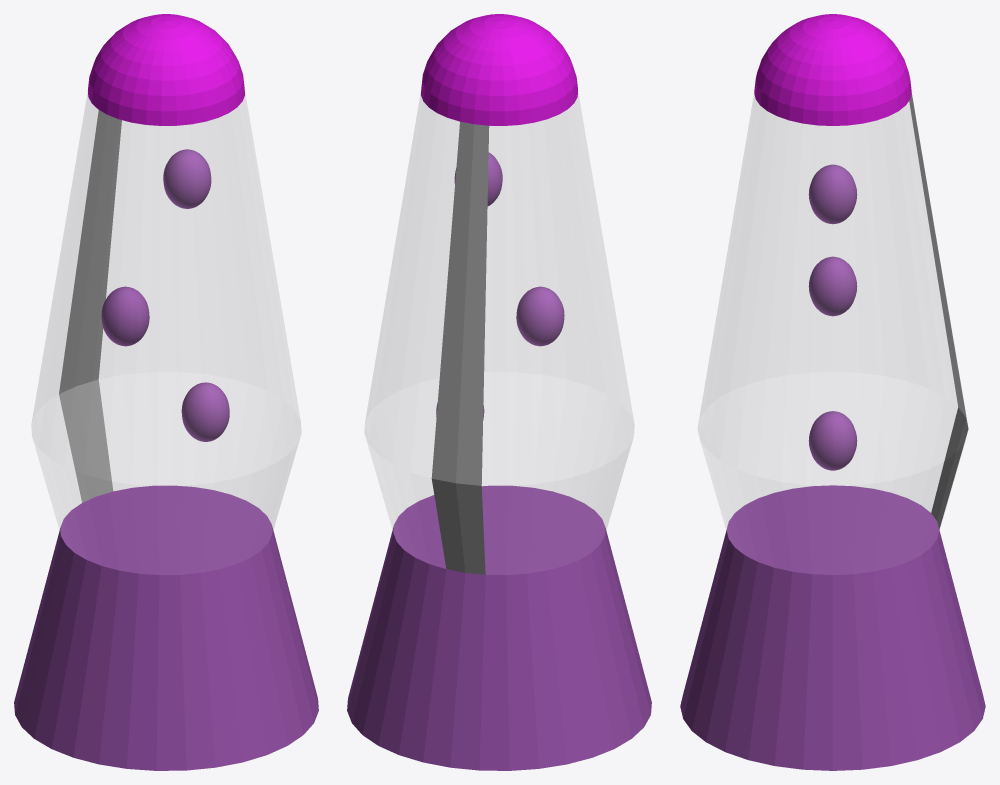
Rendered from Lava lamp.fbx.
3 views of the same model, side by side, from view 1: azimuth 30°, elevation 25°; view 2: azimuth 150°, elevation 25°; view 3: azimuth 270°, elevation 25° (orthographic).
Visible parts, largest first — view 1: Cylinder, Sphere, pSphere1, pasted__pSphere1, pasted__pSphere2; view 2: Cylinder, Sphere, pSphere1, pasted__pSphere1; view 3: Cylinder, Sphere, pasted__pSphere2, pSphere1, pasted__pSphere1.
Part boxes in pixels (<box>): Cylinder: <box>14,93,318,770</box>; Sphere: <box>88,14,244,125</box>; pSphere1: <box>101,286,149,346</box>; pasted__pSphere1: <box>163,149,211,208</box>; pasted__pSphere2: <box>181,382,229,441</box>; Cylinder: <box>347,93,651,770</box>; Sphere: <box>421,14,577,125</box>; pSphere1: <box>516,286,564,346</box>; pasted__pSphere1: <box>454,152,502,206</box>; Cylinder: <box>680,93,985,770</box>; Sphere: <box>754,14,911,125</box>; pasted__pSphere2: <box>808,411,857,470</box>; pSphere1: <box>808,256,857,316</box>; pasted__pSphere1: <box>808,164,857,224</box>.
Bounding box in the file's own units: 323 × 800 × 323.
